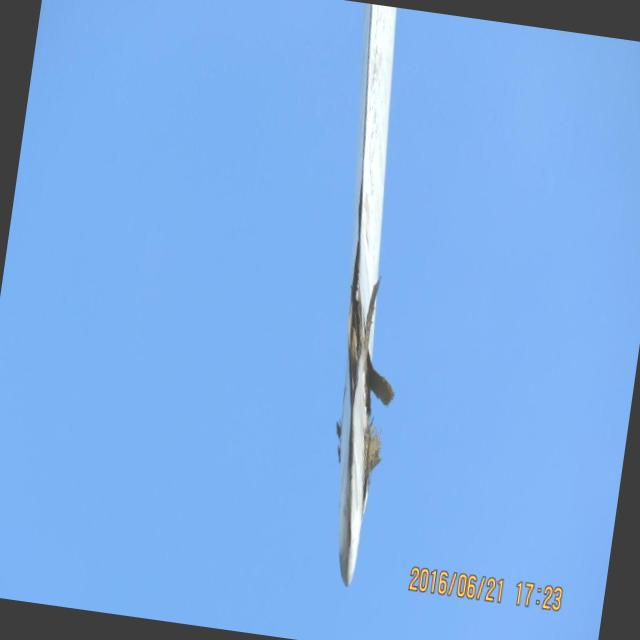crack: (304, 245, 426, 488)
